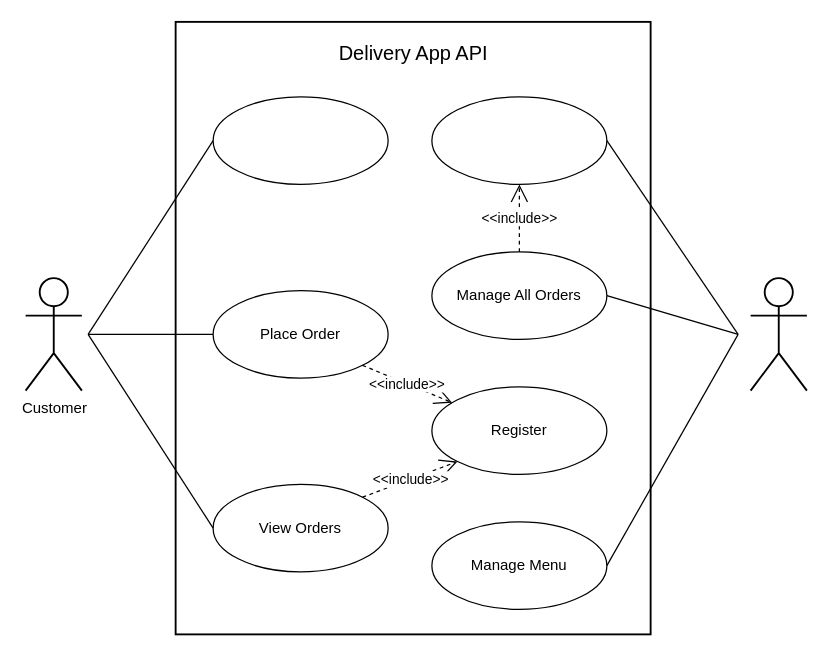
Some shapes in this 830 by 658 pixel diagram are drawn without their labels. The shapes that lost their labels are listed below. From the top down, each one's centre as x and y in pixels, then its label:
point 300,140: View Menu
point 519,140: Update Order Status
point 778,334: Admin
